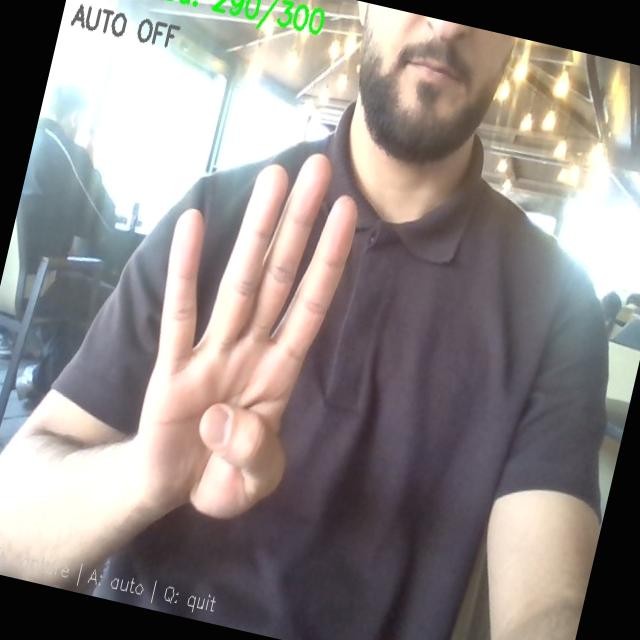Hand: (131, 155, 356, 517)
